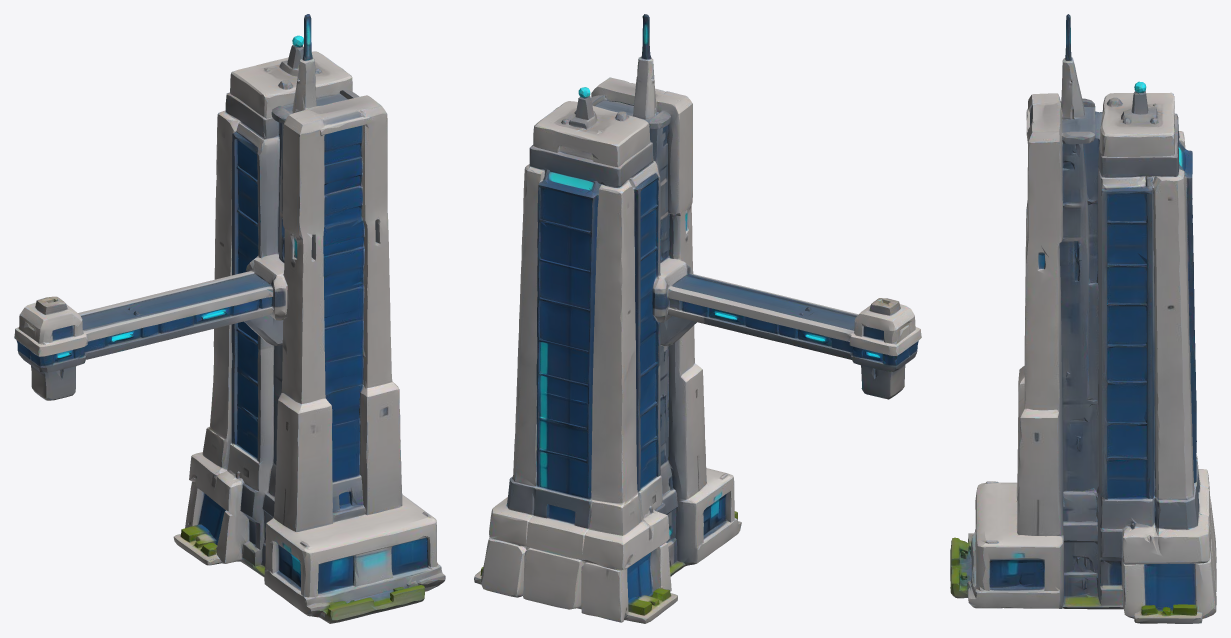
3 renders of one model, left to right at view 1: azimuth 30°, elevation 25°; view 2: azimuth 150°, elevation 25°; view 3: azimuth 270°, elevation 25°, orthographic. The views are drawn at different scales.
Parts seen in each view (by area): view 1: Mesh; view 2: Mesh; view 3: Mesh.
Boxes of the visible parts, left/top/right/bottom form: Mesh: left=14, top=14, right=445, bottom=623; Mesh: left=474, top=14, right=921, bottom=623; Mesh: left=950, top=14, right=1216, bottom=623.
Size of the model in its own units: 1.37 by 1.9 by 0.8254.
1 material, 1 textured.
